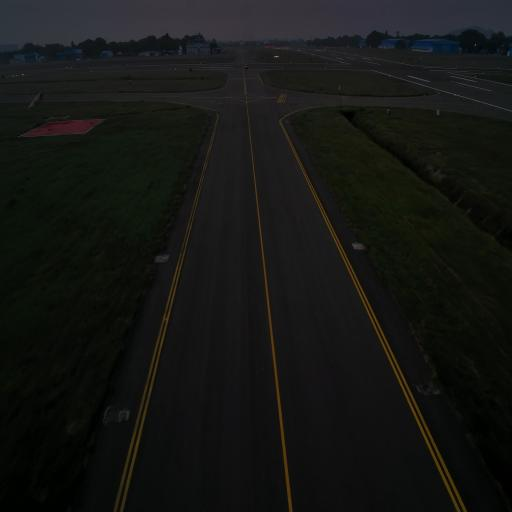on: (355, 240, 358, 245), (163, 252, 166, 257)
